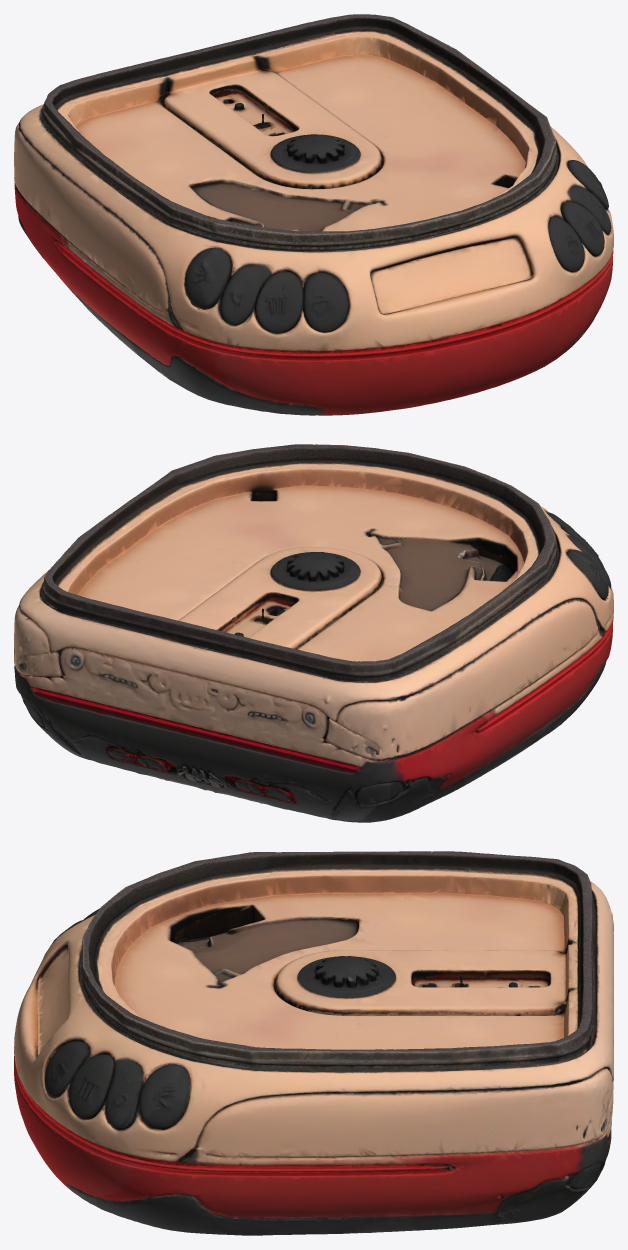
Rendered from cdplayer2.glb.
3 renders of one model, top to bottom at view 1: azimuth 30°, elevation 25°; view 2: azimuth 150°, elevation 25°; view 3: azimuth 270°, elevation 25°, orthographic. The views are drawn at different scales.
Bounding box in the file's own units: 1.74 × 0.6396 × 1.9.
1 material, 1 textured.
